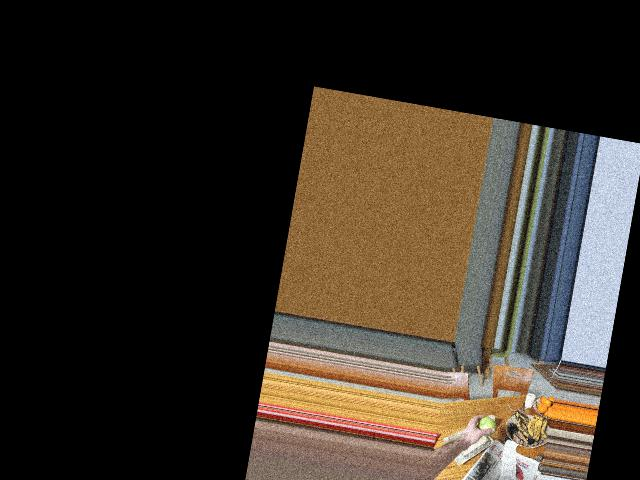apple: (474, 414, 498, 438)
